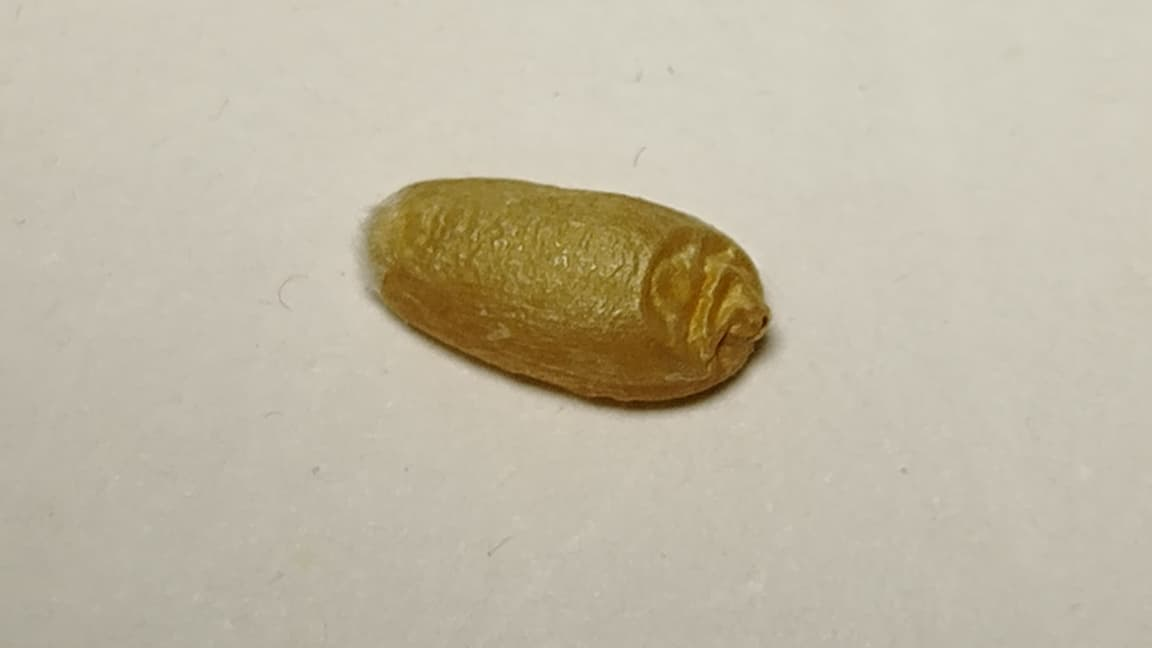healthy: (366, 179, 768, 400)
